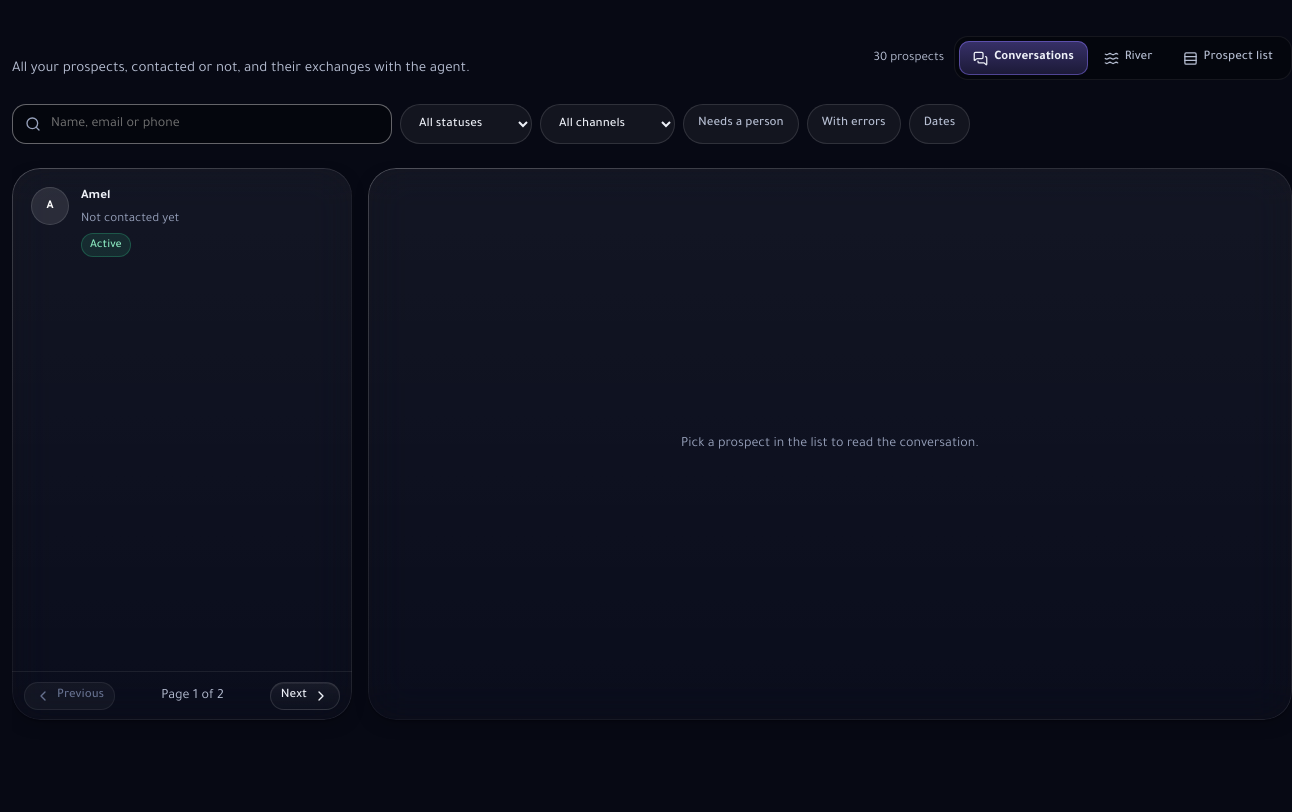
Test: Conversations (search, filters, pages) › pages the list on the server
Expected: the text "Amel" is shown, [81, 187, 110, 206]
Expected: the text with test id "convo-list-page" reads "Page 1 of 2", [161, 685, 224, 707]
What coordinates should you click on to do the following:
click the button "Next"
I would click on:
 (305, 696)
Its box is [270, 682, 340, 710].
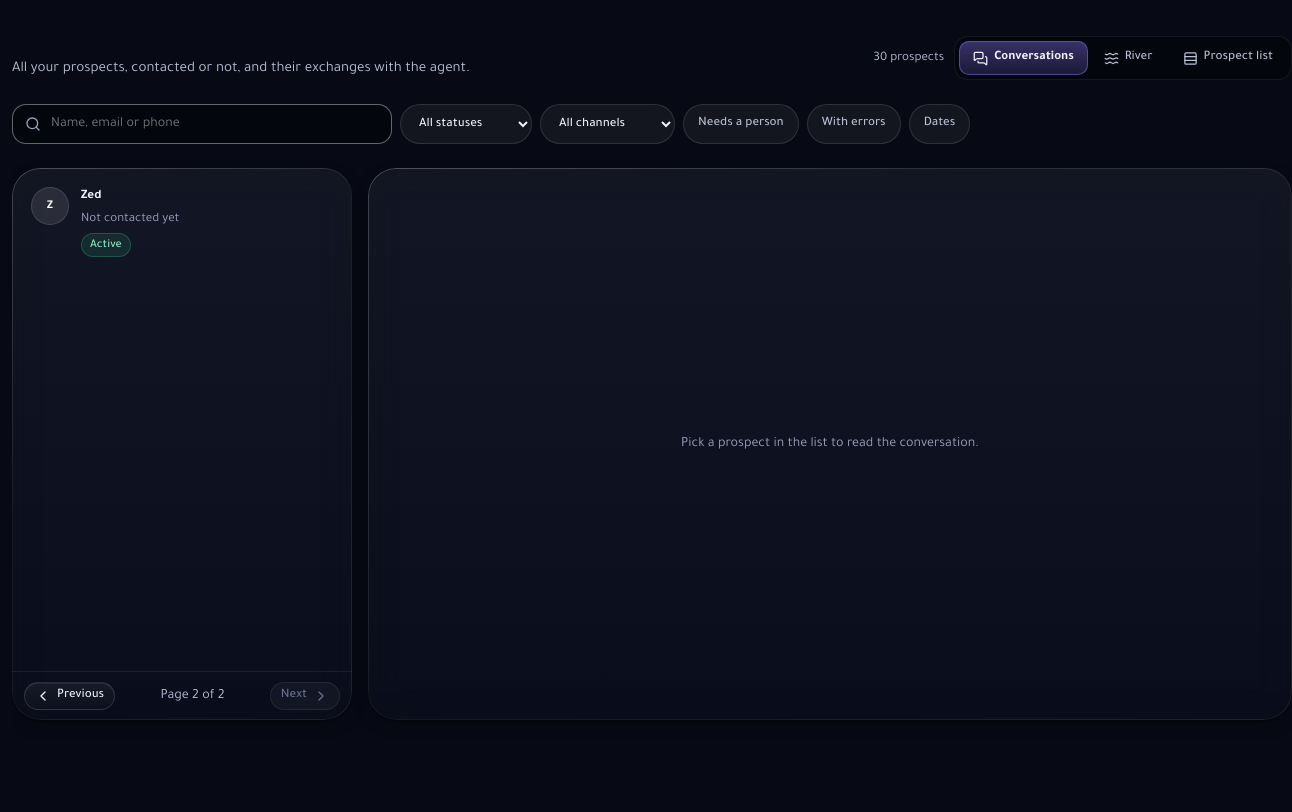
Result: the text "Zed" is shown at [81, 187, 101, 206]
